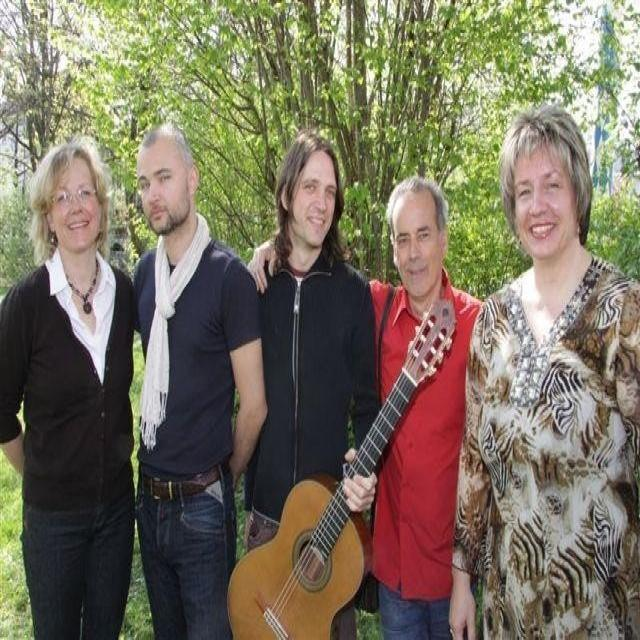guitar: (225, 294, 458, 638)
